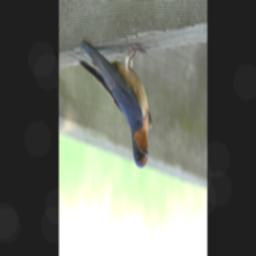Swallow: (67, 37, 153, 171)
